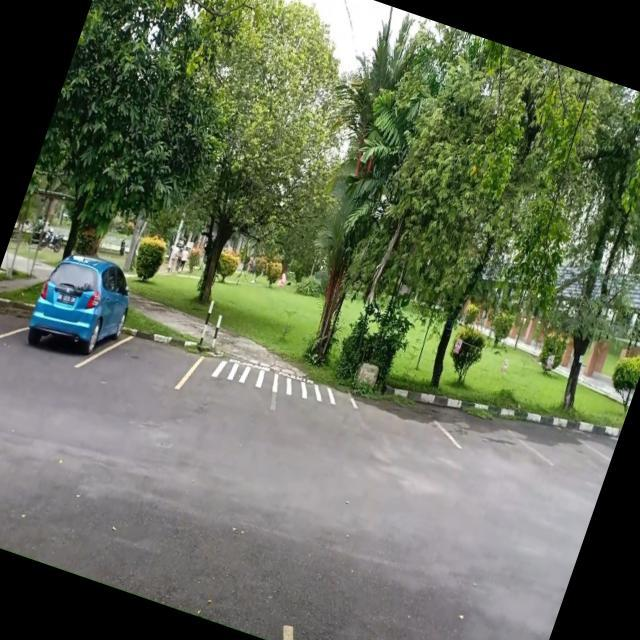empty: (431, 377, 535, 468), (97, 318, 202, 399), (520, 407, 616, 487)
occupied: (8, 281, 120, 373)
